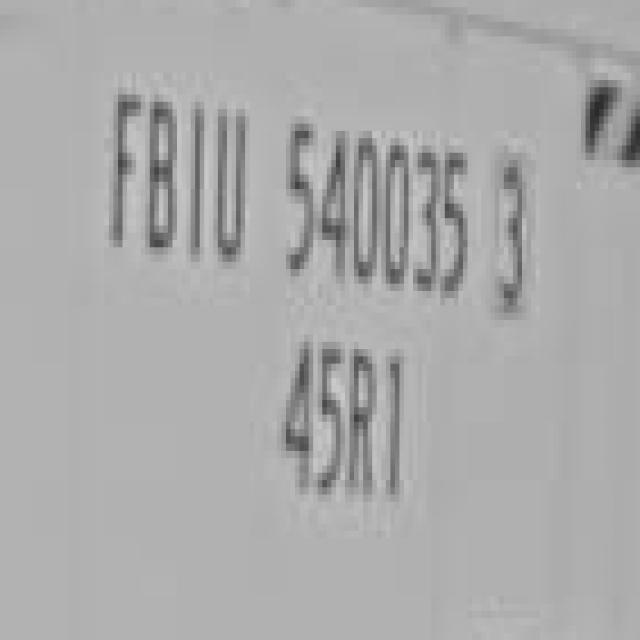dv: (481, 140, 538, 318)
owner: (93, 80, 258, 283)
serial: (276, 97, 476, 305)
size: (274, 328, 419, 521)
